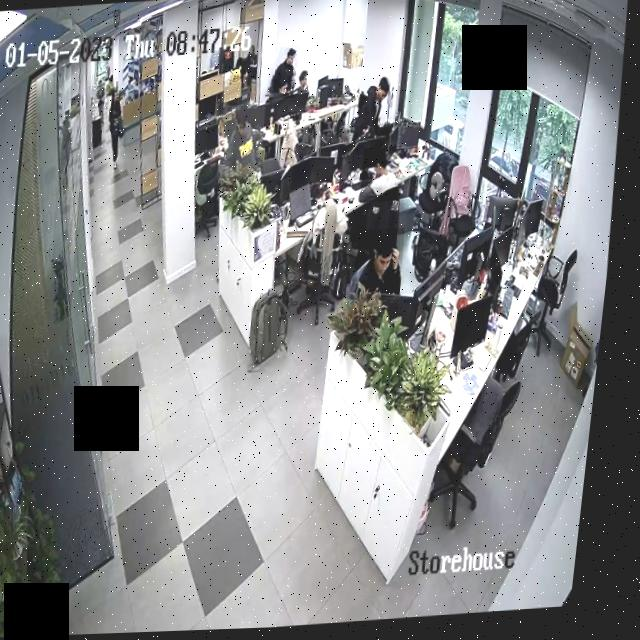person: (341, 78, 398, 159), (350, 230, 412, 303), (220, 104, 270, 179), (363, 148, 407, 205), (267, 48, 302, 101), (288, 69, 318, 114)
